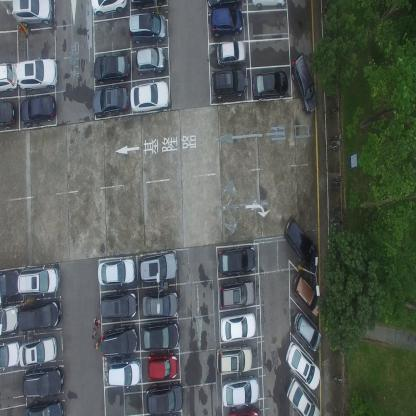car: (285, 342, 321, 391), (283, 217, 318, 266), (292, 52, 317, 116), (15, 58, 57, 92), (131, 80, 169, 116), (23, 368, 65, 400), (20, 298, 62, 330), (292, 272, 323, 315), (287, 378, 321, 416), (18, 265, 60, 295), (18, 335, 56, 368), (92, 84, 130, 117), (93, 51, 130, 84), (141, 285, 179, 317), (217, 243, 255, 275), (128, 12, 168, 42), (103, 323, 139, 356), (20, 93, 57, 125), (140, 249, 178, 280), (252, 69, 288, 101), (210, 68, 246, 100), (294, 310, 321, 352), (107, 359, 141, 392), (210, 4, 243, 38), (142, 320, 178, 351), (222, 376, 259, 406), (99, 255, 136, 285), (146, 384, 183, 414), (11, 0, 52, 27), (100, 289, 138, 317), (221, 310, 257, 339), (215, 346, 252, 374), (218, 278, 255, 306), (136, 45, 165, 75), (147, 350, 178, 378), (216, 38, 245, 65), (90, 0, 128, 18), (0, 339, 20, 371), (23, 400, 63, 416), (0, 268, 19, 299), (0, 304, 19, 335), (0, 97, 17, 128), (0, 61, 16, 93)
